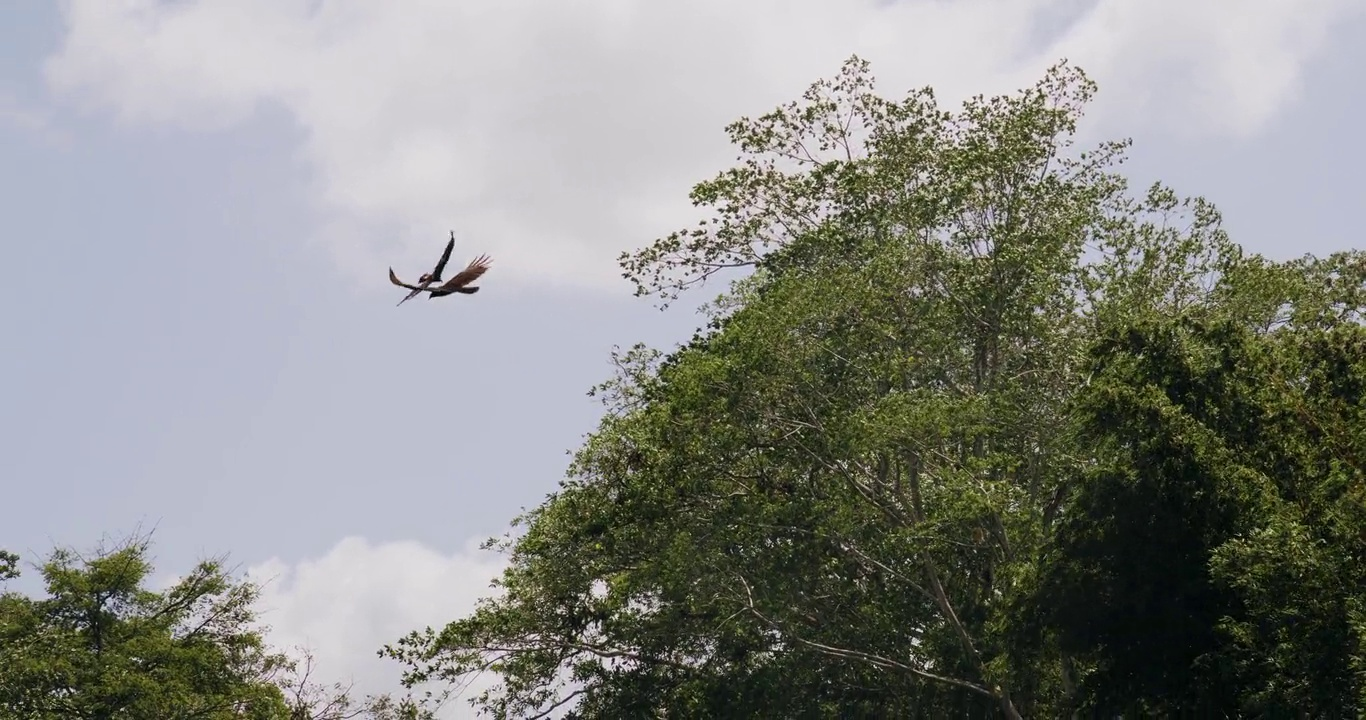bird: (400, 228, 451, 300), (386, 264, 489, 297)
